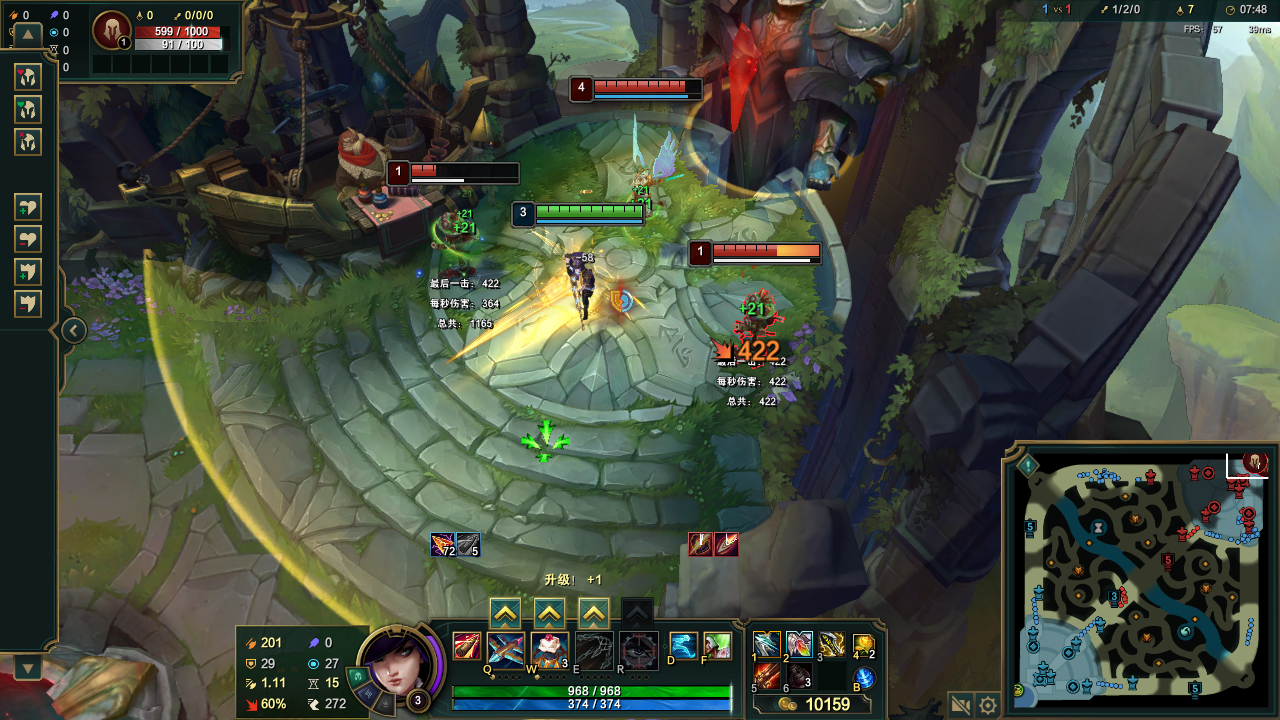DFYX: (710, 242, 826, 257), (592, 77, 703, 92), (411, 163, 519, 177)
